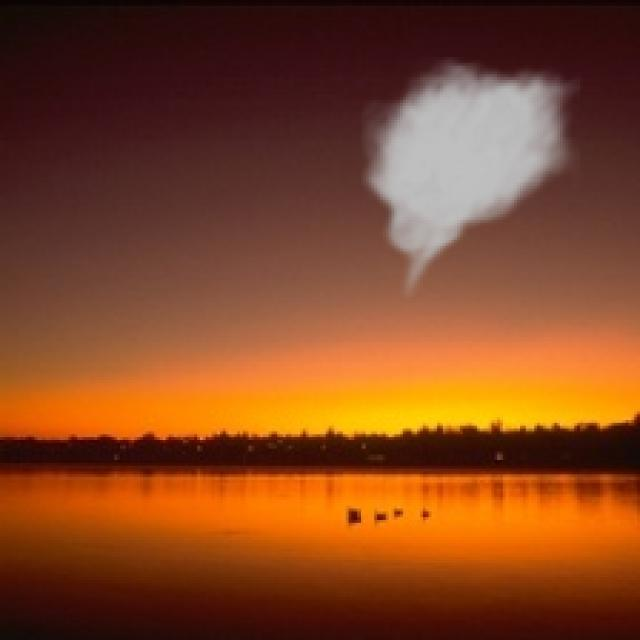Smoke: (357, 57, 583, 303)
